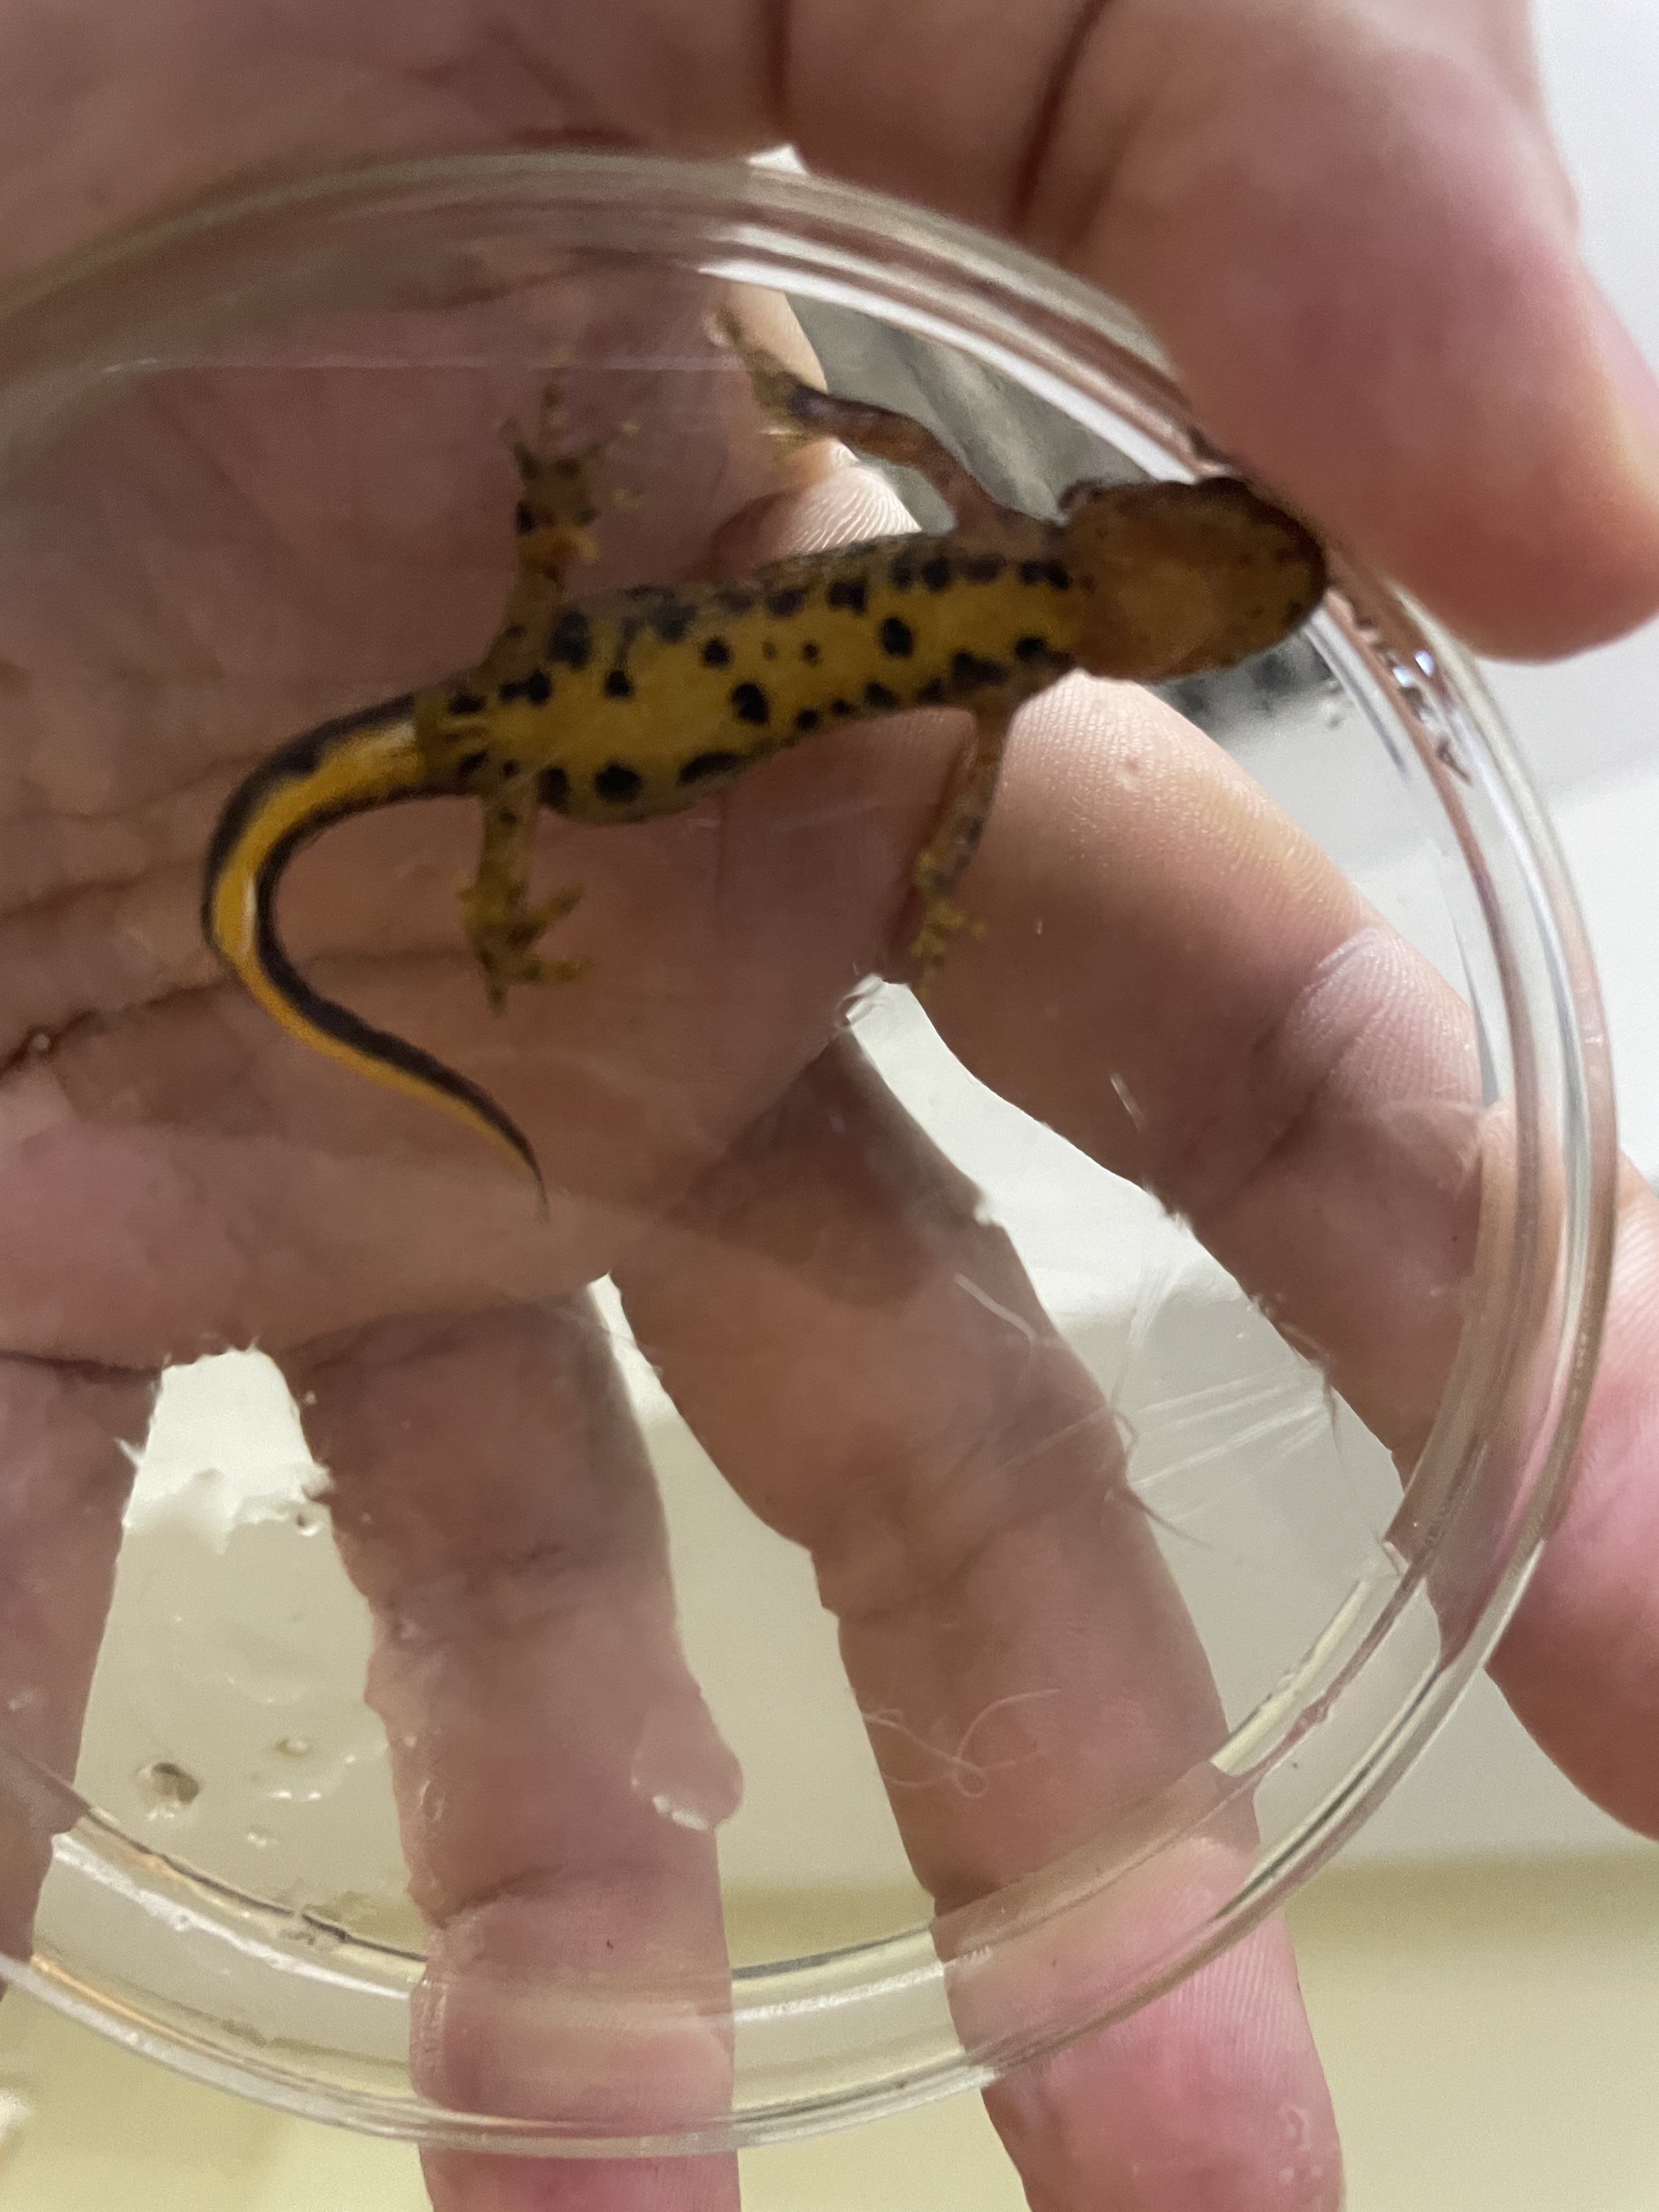Karelin_newt: (537, 533, 974, 829)
